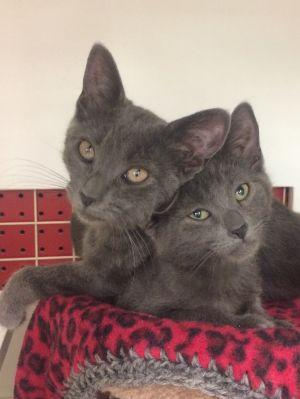rblue: (50, 18, 241, 237)
